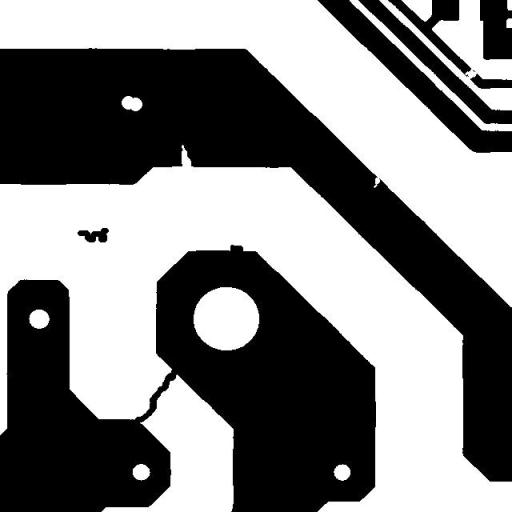copper: (70, 220, 116, 250)
mousebite: (174, 137, 198, 176), (366, 170, 387, 195)
open: (457, 61, 484, 86)
pin-hole: (114, 88, 150, 118)
short: (126, 361, 186, 430)
spur: (222, 237, 250, 262)
